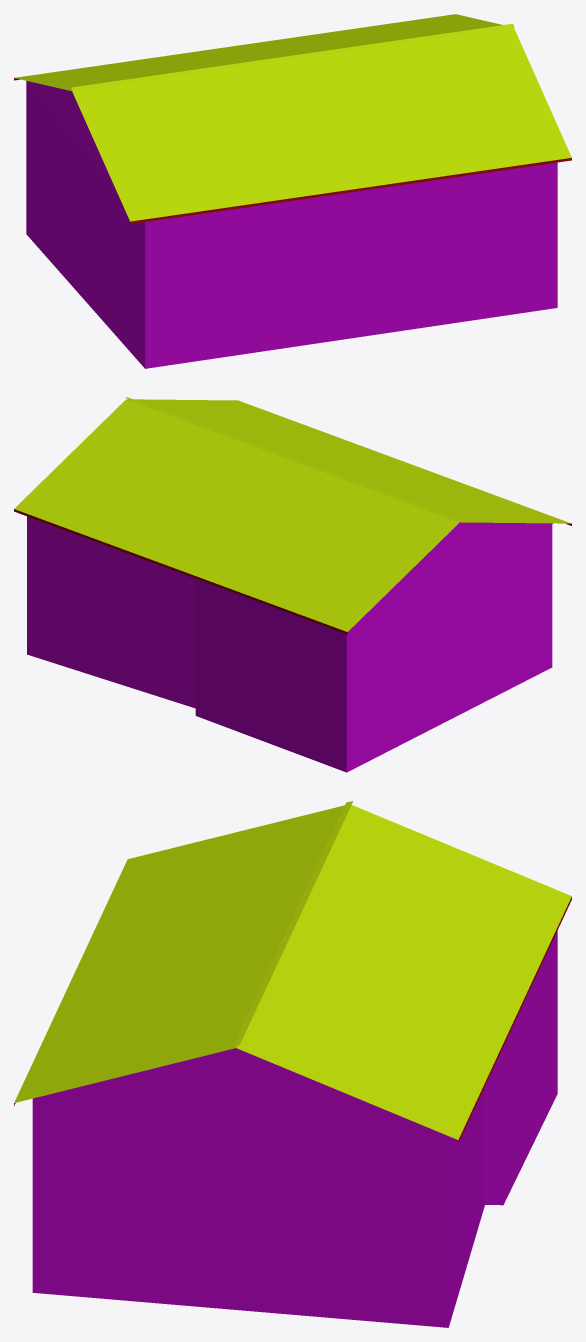
3 views of the same model, one above another, from view 1: azimuth 30°, elevation 25°; view 2: azimuth 150°, elevation 25°; view 3: azimuth 270°, elevation 25° (orthographic). The views are drawn at different scales.
Visible parts, largest first — view 1: sc_103; view 2: sc_103; view 3: sc_103.
Part boxes in pixels (x1=…): sc_103: x1=14, y1=14, x2=571, y2=368; sc_103: x1=14, y1=397, x2=571, y2=772; sc_103: x1=14, y1=801, x2=571, y2=1327.
Bounding box in the file's own units: 21.63 × 9.72 × 18.15.
